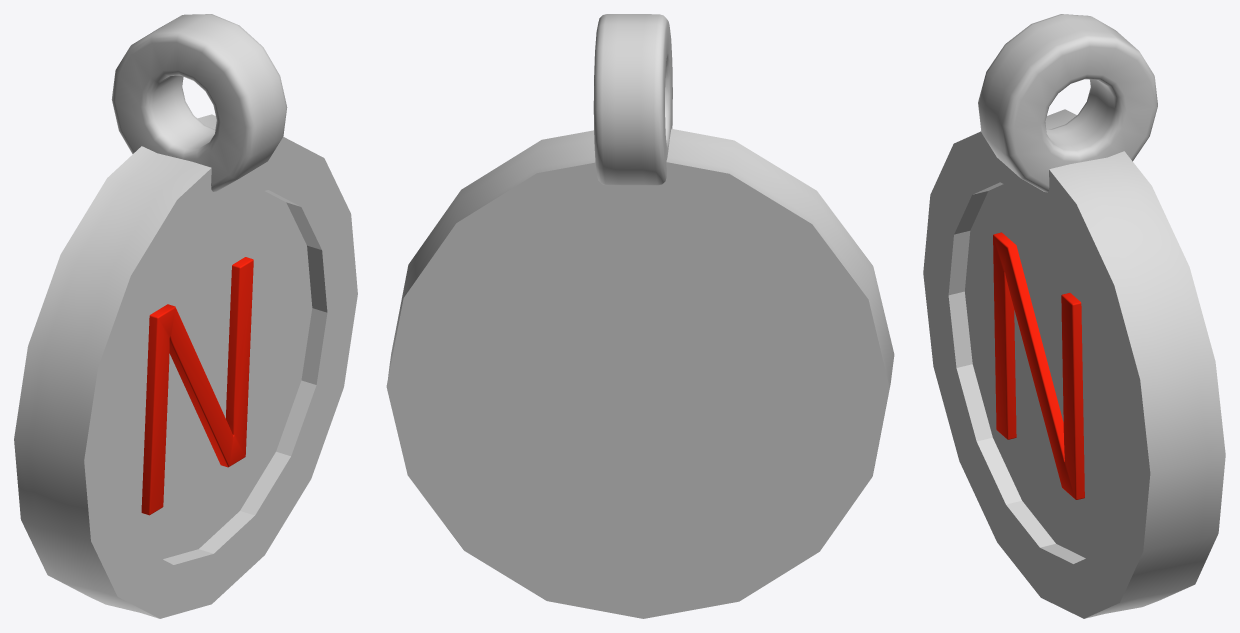
3 views of the same model, side by side, from view 1: azimuth 30°, elevation 25°; view 2: azimuth 150°, elevation 25°; view 3: azimuth 270°, elevation 25° (orthographic).
Visible parts, largest first — view 1: Cylinder.007, Tube.007, N_2.007; view 2: Cylinder.007, Tube.007; view 3: Cylinder.007, Tube.007, N_2.007.
Boxes of the visible parts, x1=… form: Cylinder.007: x1=14, y1=114, x2=357, y2=618; Tube.007: x1=111, y1=14, x2=287, y2=191; N_2.007: x1=141, y1=257, x2=253, y2=515; Cylinder.007: x1=386, y1=128, x2=894, y2=618; Tube.007: x1=593, y1=14, x2=672, y2=185; Cylinder.007: x1=923, y1=109, x2=1225, y2=618; Tube.007: x1=978, y1=14, x2=1157, y2=192; N_2.007: x1=993, y1=232, x2=1084, y2=499.
Bounding box in the file's own units: 16.88 × 10.48 × 21.94.
